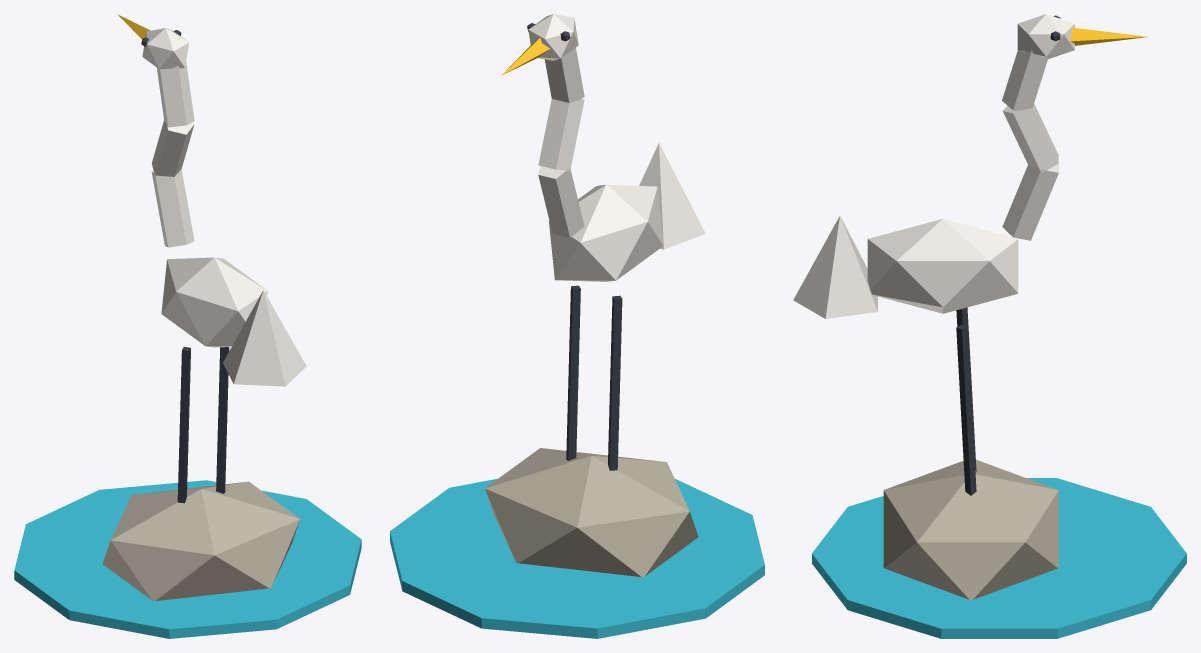
Rendered from garca.glb.
The picture shows the model from 3 angles, left to right: view 1: azimuth 30°, elevation 25°; view 2: azimuth 150°, elevation 25°; view 3: azimuth 270°, elevation 25°; orthographic projection. The views are drawn at different scales.
Parts seen in each view (by area): view 1: corpo; view 2: corpo; view 3: corpo.
Boxes of the visible parts, x1,y1,x2,y2 form: corpo: (14,14,361,638); corpo: (390,14,764,638); corpo: (793,14,1186,638).
Size of the model in its own units: 0.3804 by 0.673 by 0.42.
